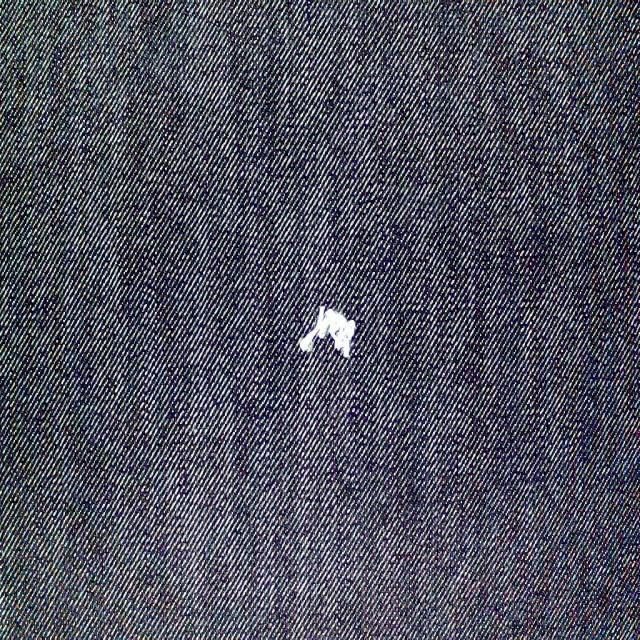defect: (288, 296, 360, 360)
